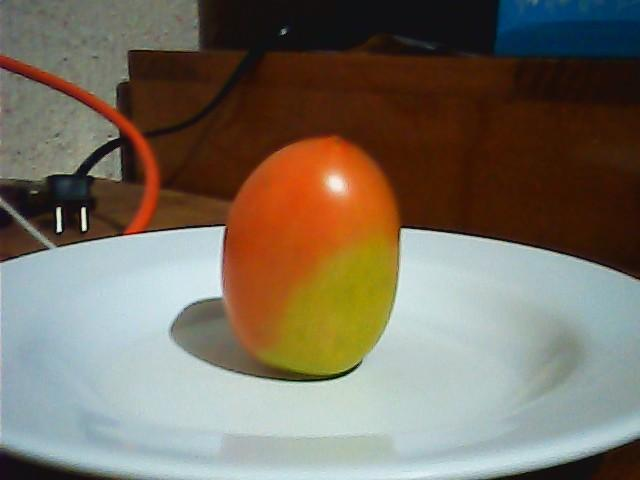verde: (216, 135, 401, 379)
